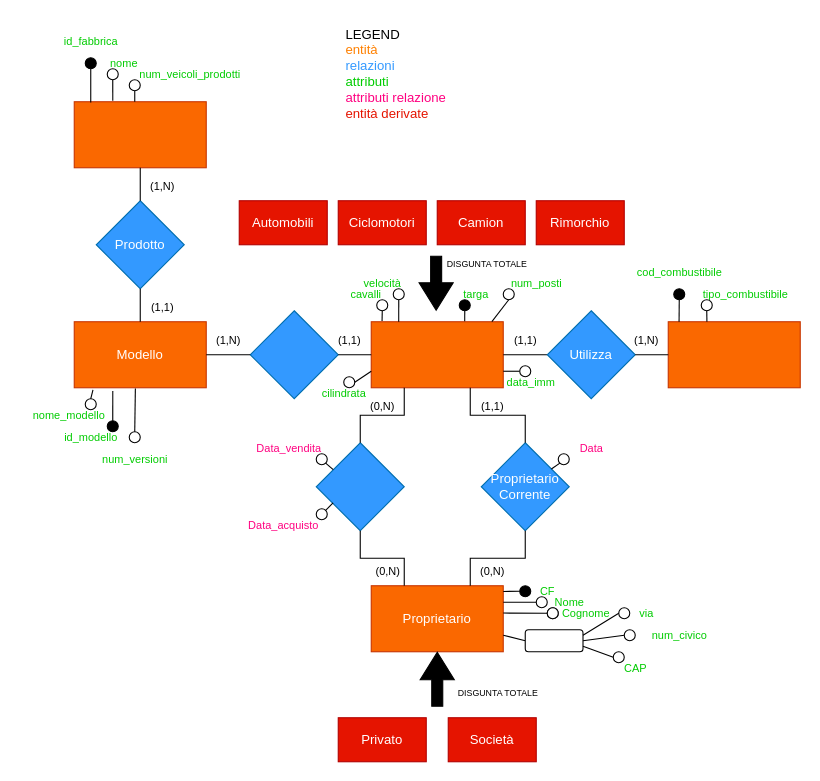
This 820x781 diagram has some shape labels left out. Each missing label, with the centre of its shape:
Appartiene: point (293, 354)
Combustibile: point (733, 354)
Fabbrica: point (139, 134)
indirizzo: point (553, 640)
Proprietari Passati: point (359, 486)
Veicolo: point (436, 354)
